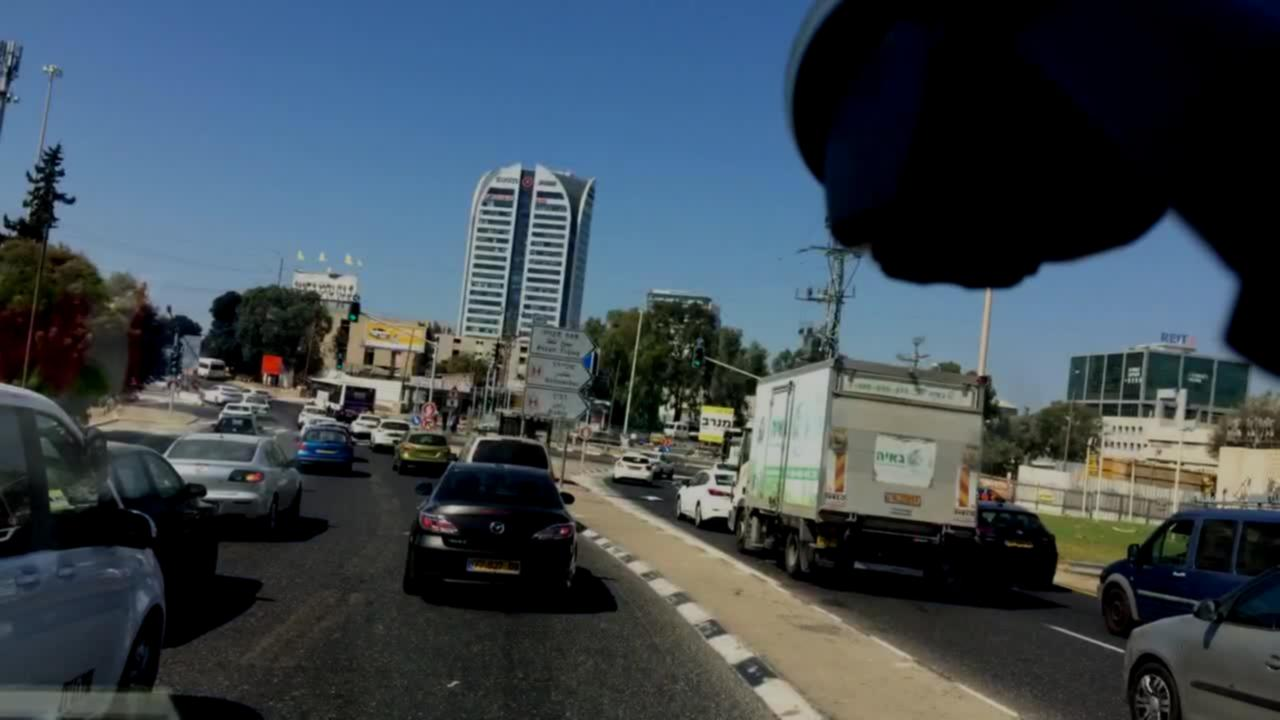Mazda: (483, 513, 511, 541)
